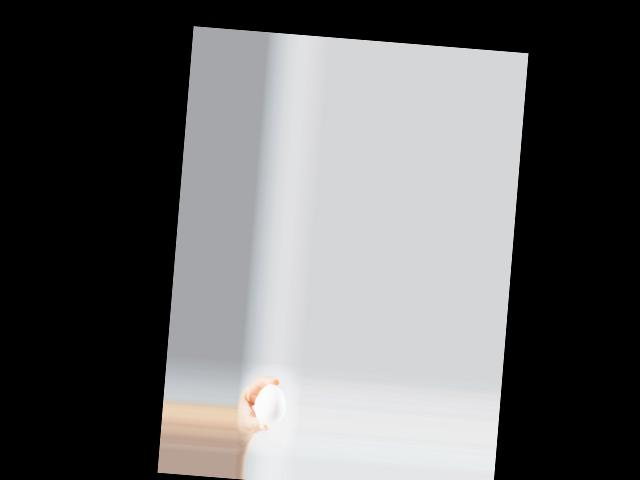egg: (254, 382, 287, 426)
